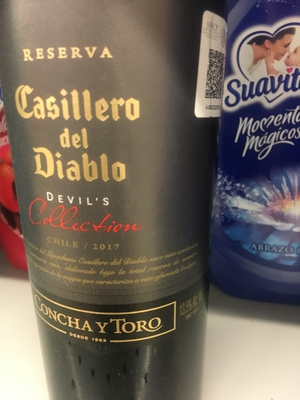casillero del diablo devils collection rojo: (5, 3, 223, 400)
